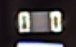COMP: (12, 9, 67, 37)
GAP: (16, 25, 63, 47)
